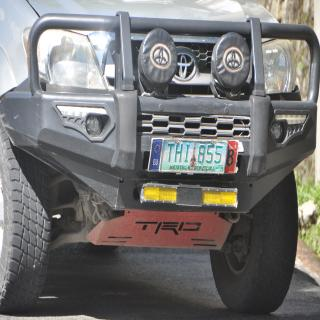license: (160, 140, 229, 174)
